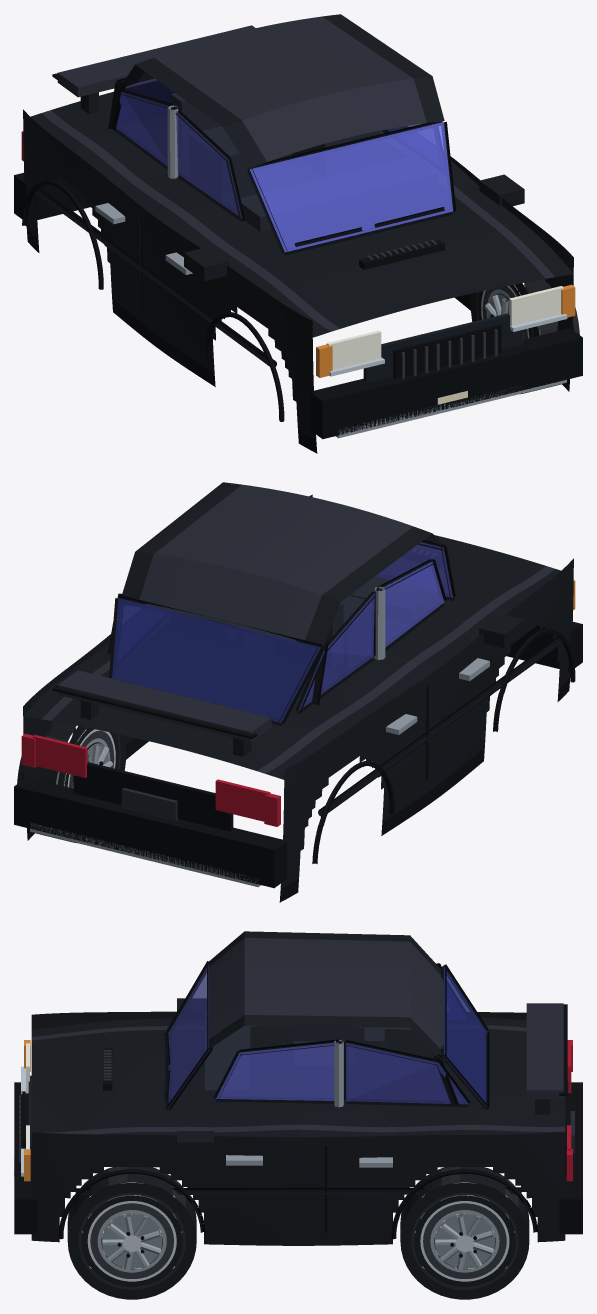
File: black_maria_noir_body.obj
The picture shows the model from 3 angles, top to bottom: view 1: azimuth 30°, elevation 25°; view 2: azimuth 150°, elevation 25°; view 3: azimuth 270°, elevation 25°; orthographic projection. The views are drawn at different scales.
Visible parts, largest first — view 1: BODY_HOOD, ROOF, BODY_SIDE, FRONT_GLASS, BUMPERS, DASHBOARD, WINDOW_FRAMES, SEATS, FRONT_SIDE_GLASS, FRONT_LIGHTS, REAR_WING, GRILLE (+16 smaller); view 2: ROOF, BODY_HOOD, BODY_SIDE, REAR_GLASS, BUMPERS, REAR_WING, WINDOW_FRAMES, END_PANEL, REAR_LIGHTS, FRONT_SIDE_GLASS, REAR_SIDE_GLASS, BODY_MOLDING (+14 smaller); view 3: BODY_HOOD, BODY_SIDE, ROOF, WHEEL_SIDE, WINDOW_FRAMES, FRONT_SIDE_GLASS, REAR_SIDE_GLASS, BUMPERS, REAR_WING, SEATS, REAR_GLASS, WHEEL_TREAD (+13 smaller).
Boxes of the visible parts, x1,y1,x2,y2 form: BODY_HOOD: (24, 91, 573, 337); ROOF: (119, 14, 444, 168); BODY_SIDE: (23, 109, 573, 453); FRONT_GLASS: (249, 122, 452, 252); BUMPERS: (14, 173, 582, 439); DASHBOARD: (236, 156, 437, 231); WINDOW_FRAMES: (109, 77, 456, 255); SEATS: (189, 126, 380, 202); FRONT_SIDE_GLASS: (173, 108, 443, 218); FRONT_LIGHTS: (326, 286, 563, 369); REAR_WING: (57, 25, 254, 97); GRILLE: (393, 324, 501, 378); ROOF: (121, 482, 444, 647); BODY_HOOD: (23, 535, 573, 779); BODY_SIDE: (23, 494, 573, 902); REAR_GLASS: (112, 598, 320, 722); BUMPERS: (14, 622, 582, 888); REAR_WING: (57, 670, 271, 742); WINDOW_FRAMES: (109, 540, 455, 725); END_PANEL: (73, 762, 233, 831); REAR_LIGHTS: (33, 735, 270, 821); FRONT_SIDE_GLASS: (379, 561, 444, 647); REAR_SIDE_GLASS: (298, 593, 374, 710); BODY_MOLDING: (318, 633, 566, 816); BODY_HOOD: (31, 1017, 565, 1147); BODY_SIDE: (31, 1011, 565, 1245); ROOF: (209, 931, 443, 1062); WHEEL_SIDE: (67, 1167, 529, 1299); WINDOW_FRAMES: (165, 961, 489, 1110); FRONT_SIDE_GLASS: (216, 1042, 338, 1100); REAR_SIDE_GLASS: (346, 1043, 468, 1104); BUMPERS: (14, 1082, 582, 1234); REAR_WING: (526, 1003, 563, 1099); SEATS: (293, 1026, 354, 1110); REAR_GLASS: (443, 966, 486, 1106); WHEEL_TREAD: (67, 1167, 529, 1287).
Size of the model in its own units: 2.06 by 1.68 by 3.37.
